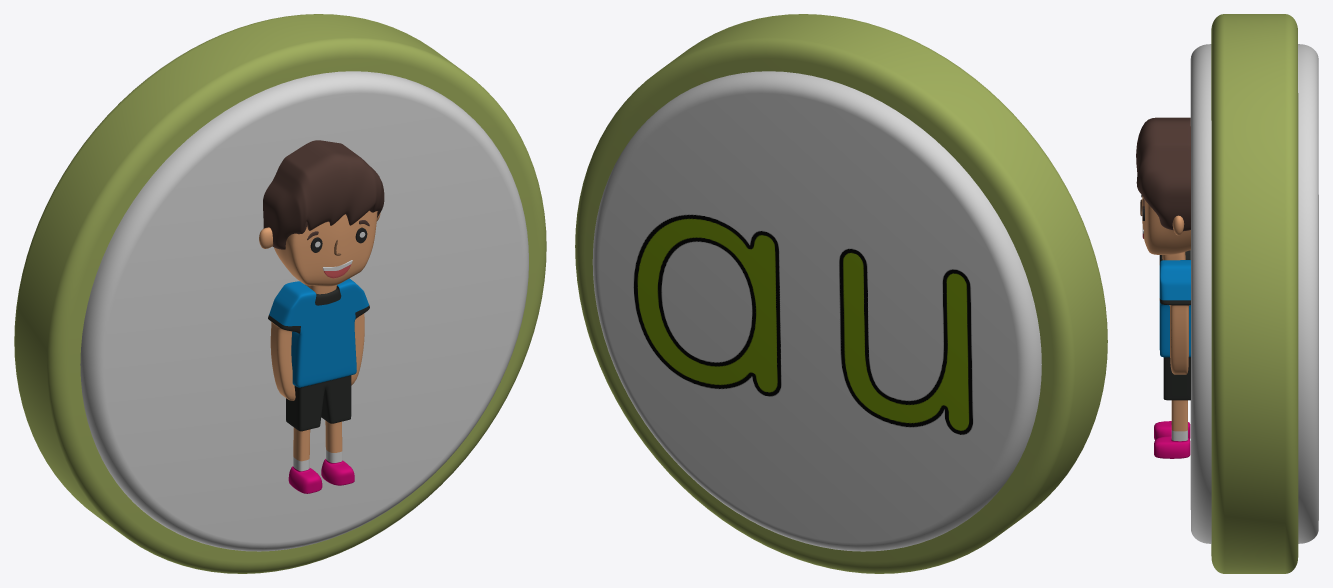
The model's file is boy3.gltf.
The picture shows the model from 3 angles, left to right: view 1: azimuth 30°, elevation 25°; view 2: azimuth 150°, elevation 25°; view 3: azimuth 270°, elevation 25°; orthographic projection. The views are drawn at different scales.
Parts seen in each view (by area): view 1: Cylinder_2, Cylinder.001, Cube.000, Cube.002, Cube; view 2: Cylinder_2, Cylinder.001; view 3: Cylinder.001, Cylinder_2, Cube.000, Cube.002, Cube.
Boxes of the visible parts, x1,y1,x2,y2 form: Cylinder_2: [80, 71, 528, 551]; Cylinder.001: [14, 14, 546, 573]; Cube.000: [268, 278, 369, 493]; Cube.002: [263, 140, 384, 249]; Cube: [259, 210, 380, 294]; Cylinder_2: [592, 71, 1041, 551]; Cylinder.001: [575, 14, 1107, 573]; Cylinder.001: [1211, 14, 1298, 573]; Cylinder_2: [1190, 44, 1318, 543]; Cube.000: [1154, 250, 1190, 458]; Cube.002: [1136, 117, 1190, 231]; Cube: [1142, 196, 1190, 260].
Bounding box in the file's own units: 2.56 × 2.56 × 0.8346.
14 materials, 1 textured.
